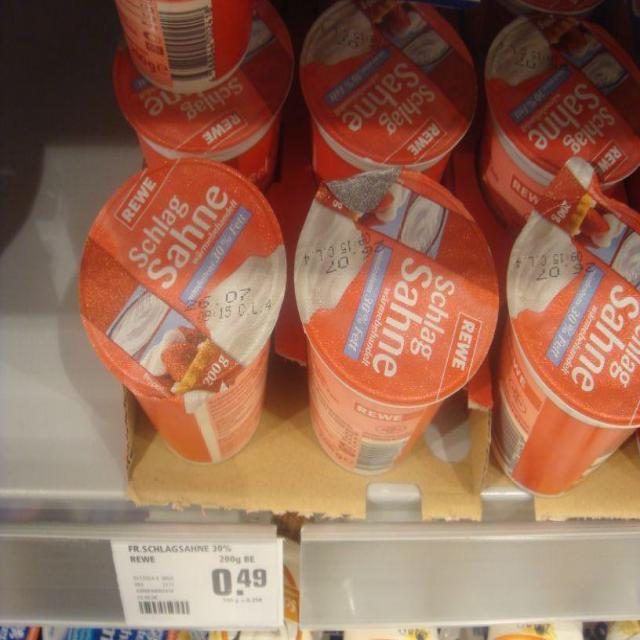Cream: (79, 159, 285, 463), (294, 168, 497, 473), (493, 158, 639, 495), (480, 17, 639, 231), (113, 1, 293, 190), (300, 0, 476, 181), (116, 0, 252, 92)
